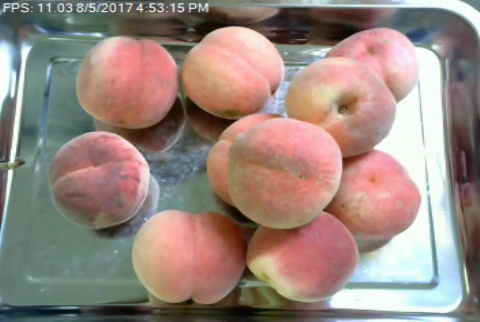Peach: (227, 117, 341, 230), (132, 210, 250, 304), (285, 56, 397, 155), (245, 214, 360, 301), (49, 131, 150, 229), (181, 25, 284, 118), (75, 36, 177, 128), (325, 147, 422, 243), (322, 25, 419, 104)
